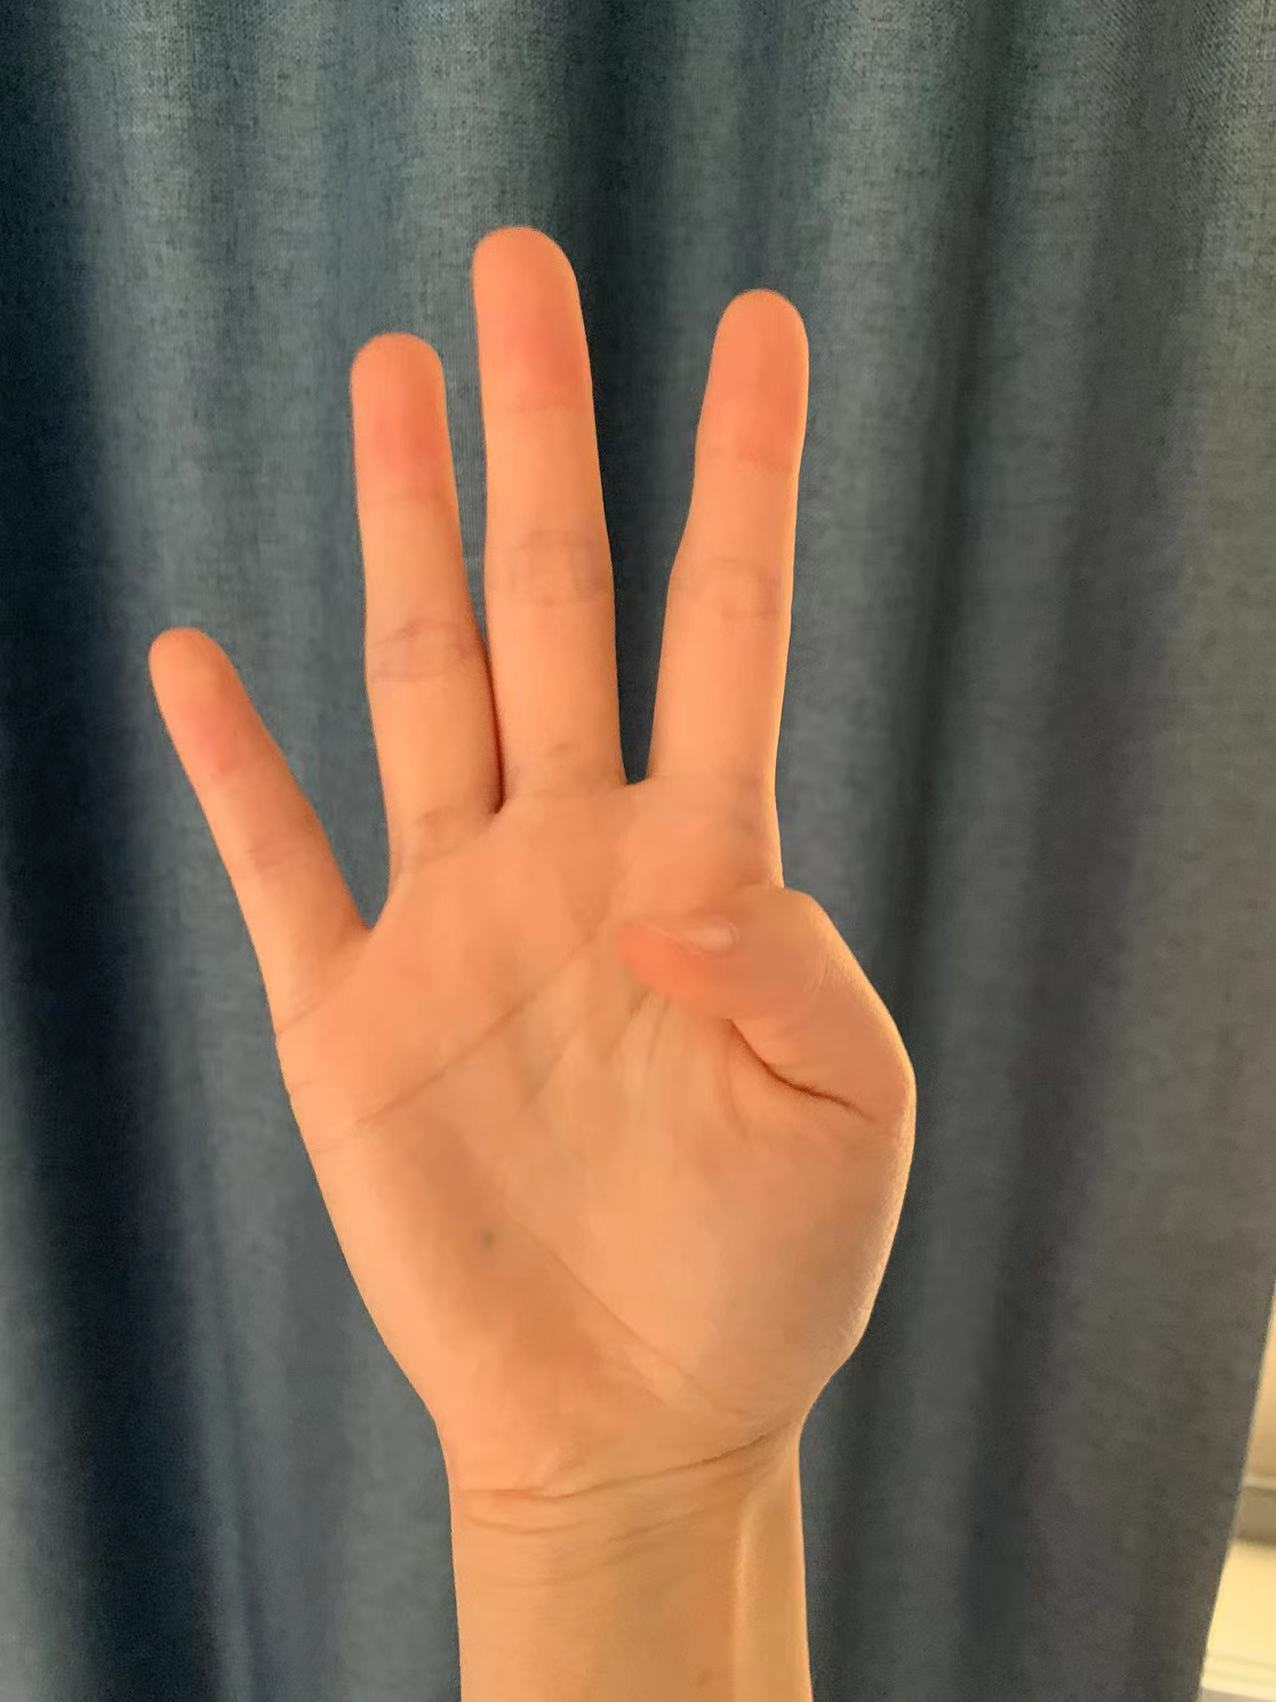right: (134, 218, 918, 1489)
